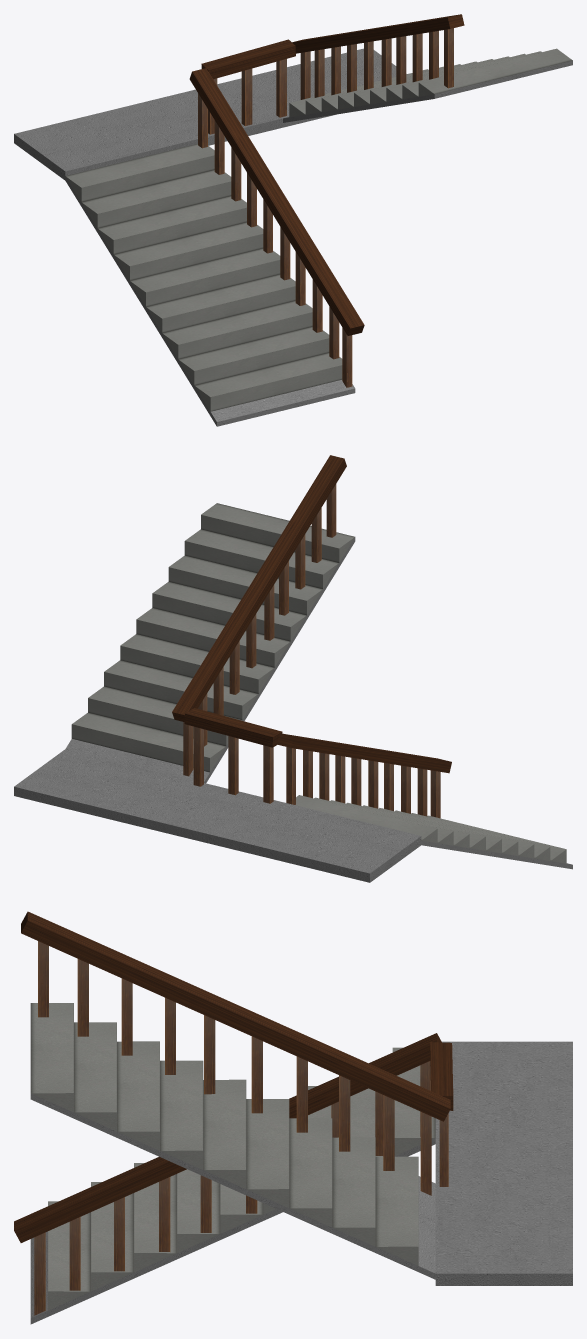
File: stair1.FBX
3 views of the same model, one above another, from view 1: azimuth 30°, elevation 25°; view 2: azimuth 150°, elevation 25°; view 3: azimuth 270°, elevation 25° (orthographic). The views are drawn at different scales.
Visible parts, largest first — view 1: stair1; view 2: stair1; view 3: stair1.
Boxes of the visible parts, x1=… form: stair1: x1=14, y1=14, x2=572, y2=426; stair1: x1=14, y1=455, x2=572, y2=882; stair1: x1=14, y1=911, x2=572, y2=1324.
Bounding box in the file's own units: 40 × 38 × 40.72.
